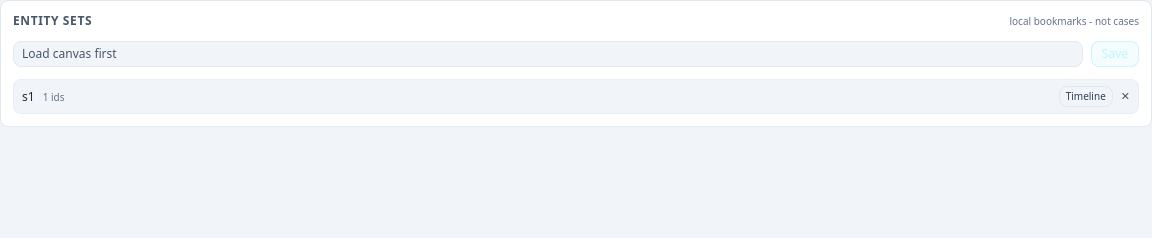
Scenario: EntitySetPanel polish › shows relative timestamps on timeline rows
Step 1. Click the button with test id "entity-set-timeline-s1" → click(1086, 96), box [1059, 86, 1113, 107]
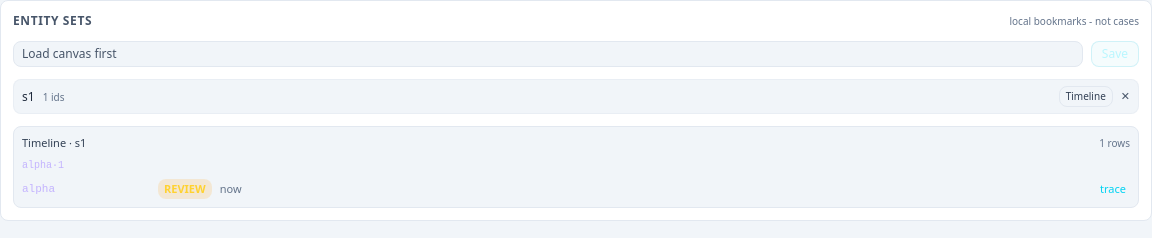
Now the text "1 rows" is shown, box [1099, 136, 1130, 151]
Now the text with test id "timeline-row-time" reads "now", box [220, 180, 242, 196]
